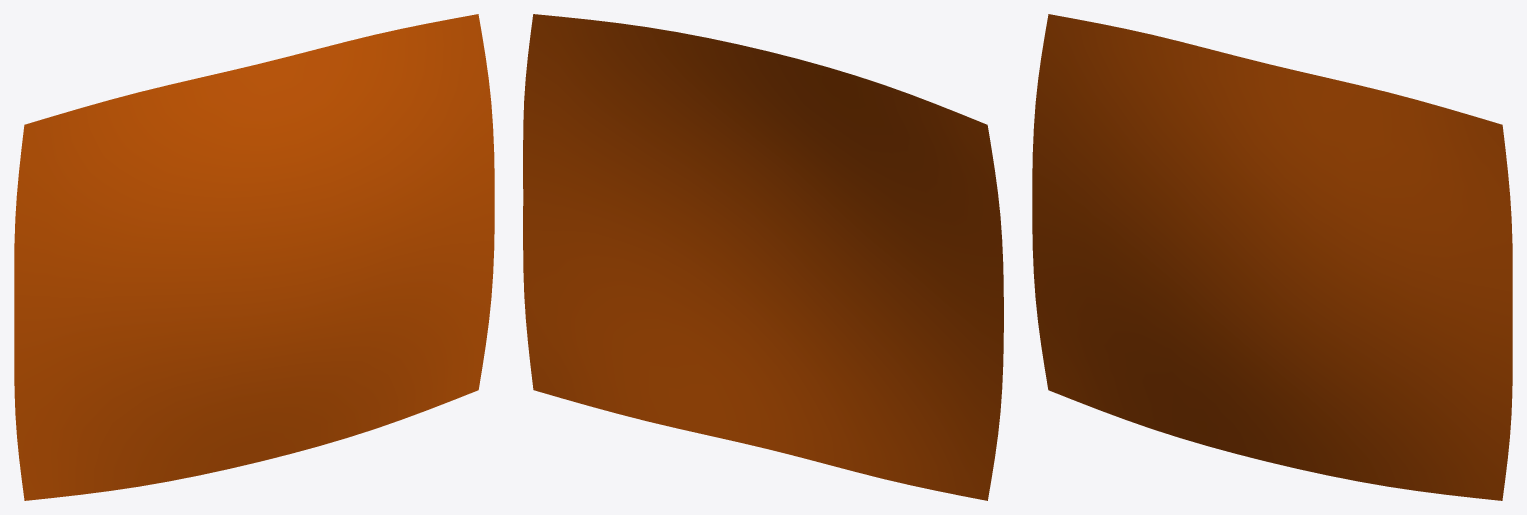
File: screen.gltf
3 views of the same model, side by side, from view 1: azimuth 30°, elevation 25°; view 2: azimuth 150°, elevation 25°; view 3: azimuth 330°, elevation 25° (orthographic).
Visible parts, largest first — view 1: screen; view 2: screen; view 3: screen.
Part boxes in pixels (x1,y1,x2,y2): screen: [14, 14, 494, 500]; screen: [523, 14, 1003, 500]; screen: [1032, 14, 1512, 500].
Bounding box in the file's own units: 3.57 × 2.82 × 0.3009.
